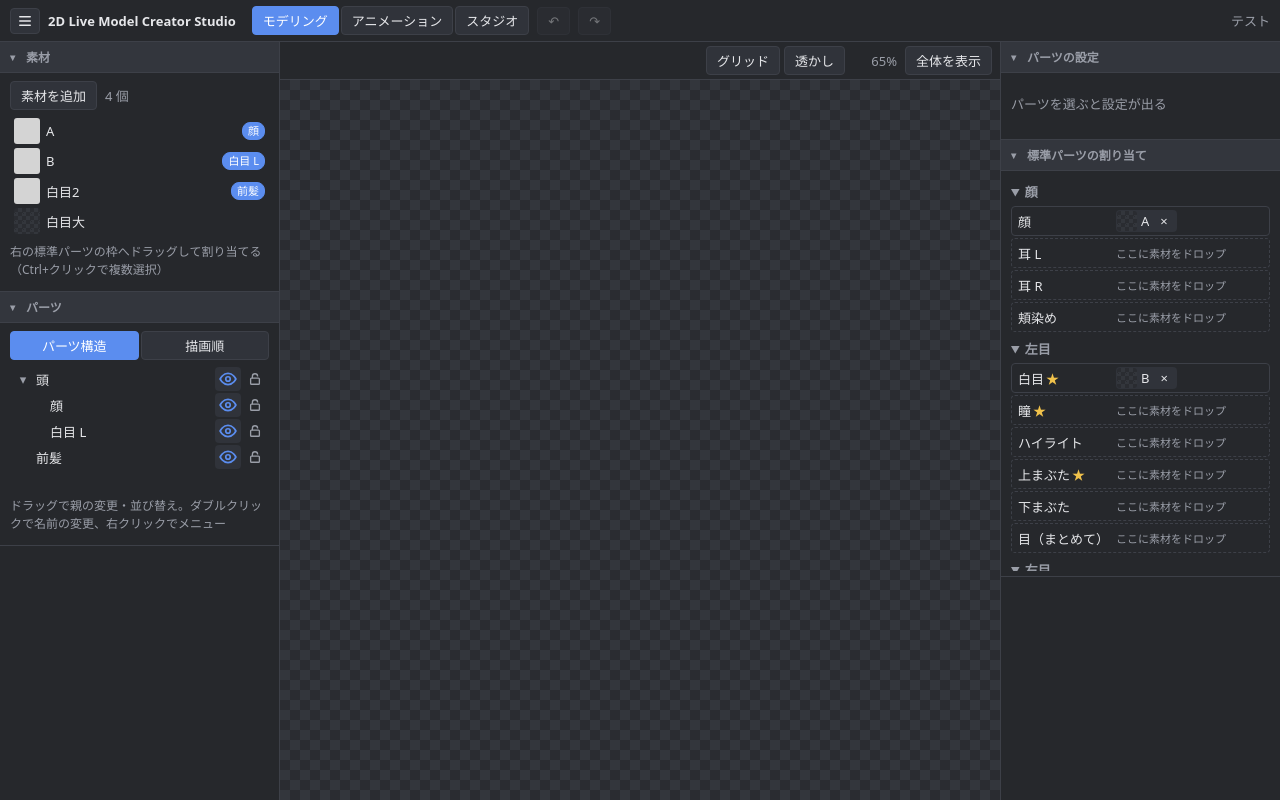
パーツ構造 › 右クリックの「親を変更」で選んだグループへ動かす
The image size is (1280, 800).
Right-click the list item "前髪" at point(49, 458), box [10,444,269,470]
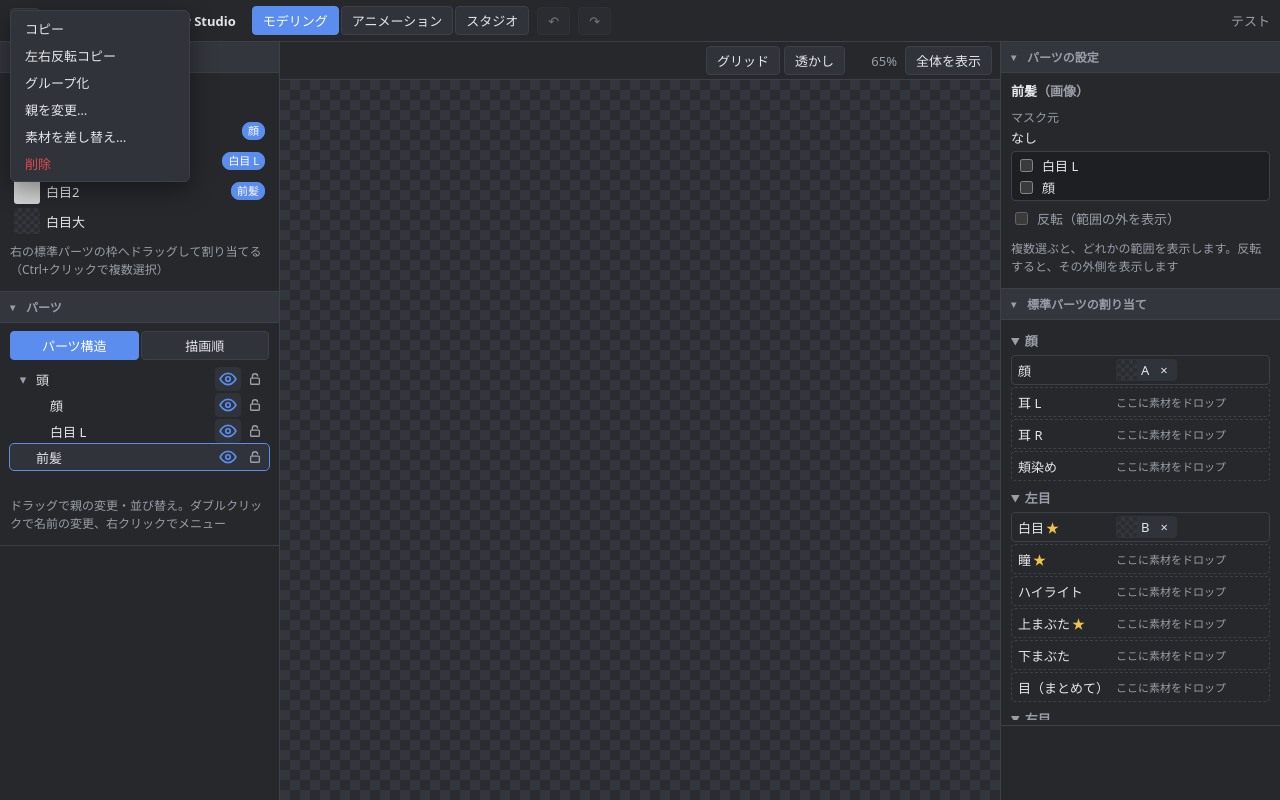
Click the menu item "親を変更…" at point(100, 110), box [15,96,185,123]
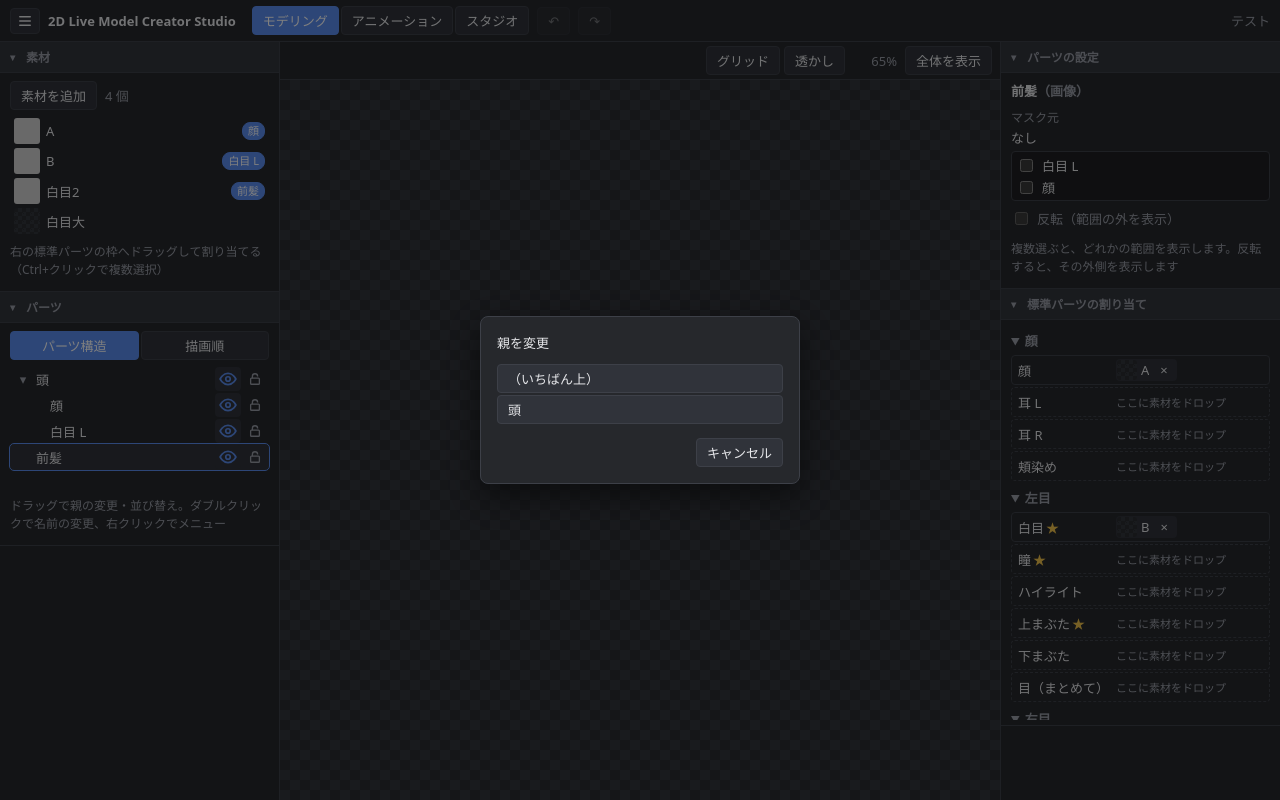
expect the buttons read "（いちばん上）", "頭", "キャンセル", in this order: met
Click the button "頭" at point(515, 410), box [497,395,783,424]
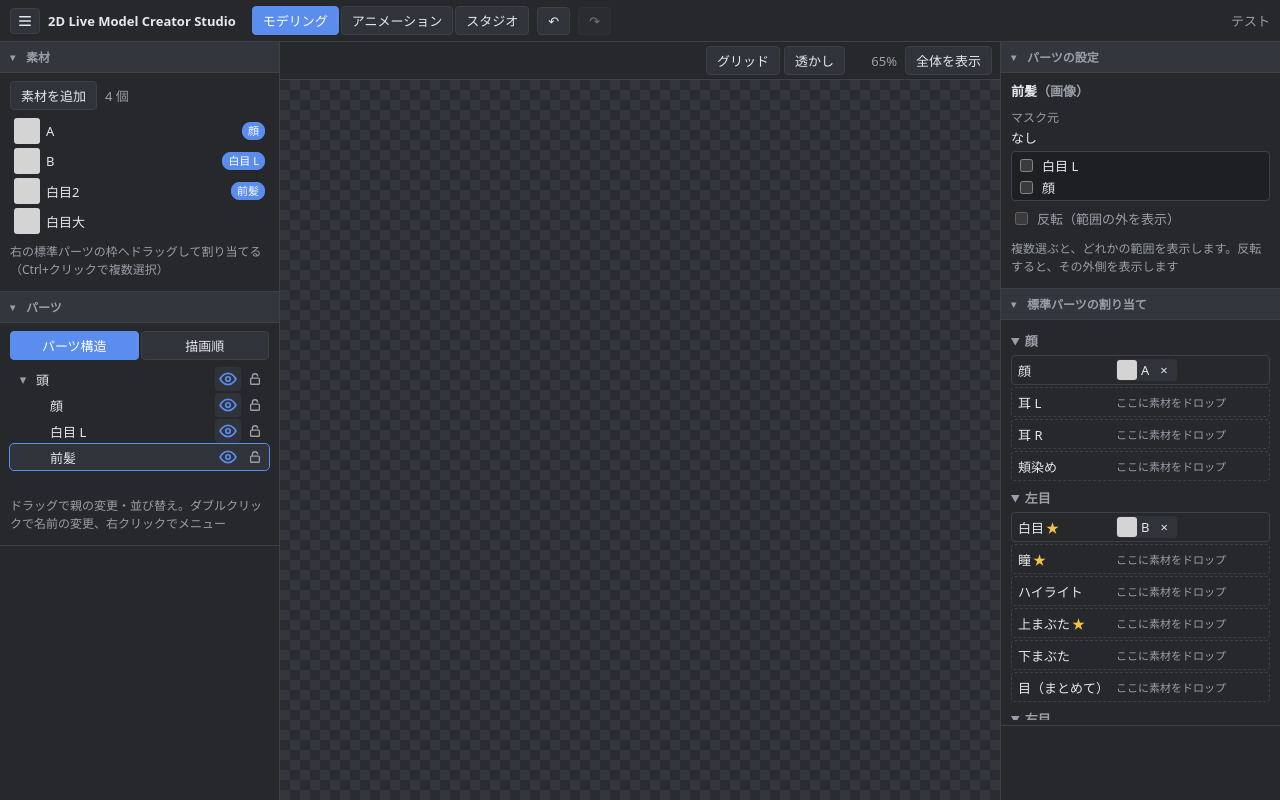
expect the dialog is gone: met
